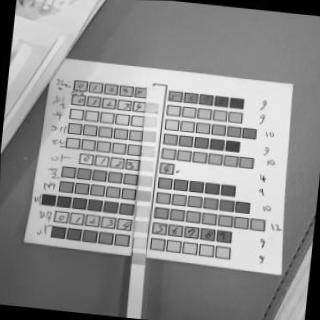mark: (135, 205, 150, 218), (138, 174, 152, 187), (136, 190, 150, 202), (143, 116, 157, 128), (133, 237, 146, 249), (134, 220, 147, 232), (132, 253, 144, 265), (143, 130, 155, 142), (144, 102, 156, 114), (146, 87, 158, 99), (140, 162, 154, 172), (141, 146, 153, 156)
